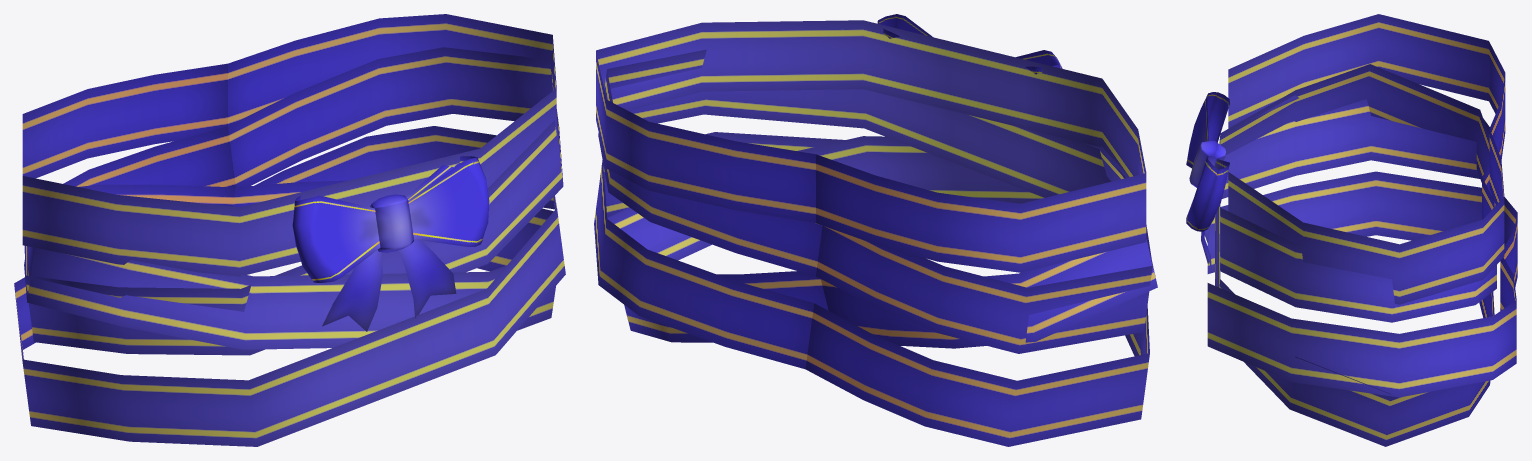
Rendered from ribbon_wind.fbx.
The picture shows the model from 3 angles, left to right: view 1: azimuth 30°, elevation 25°; view 2: azimuth 150°, elevation 25°; view 3: azimuth 270°, elevation 25°; orthographic projection. The views are drawn at different scales.
Parts seen in each view (by area): view 1: polySurface12; view 2: polySurface12; view 3: polySurface12.
Part boxes in pixels (<box>): polySurface12: <box>14,14,565,446</box>; polySurface12: <box>594,14,1157,446</box>; polySurface12: <box>1186,14,1517,446</box>.
Bounding box in the file's own units: 6.97 × 3.09 × 4.2.
